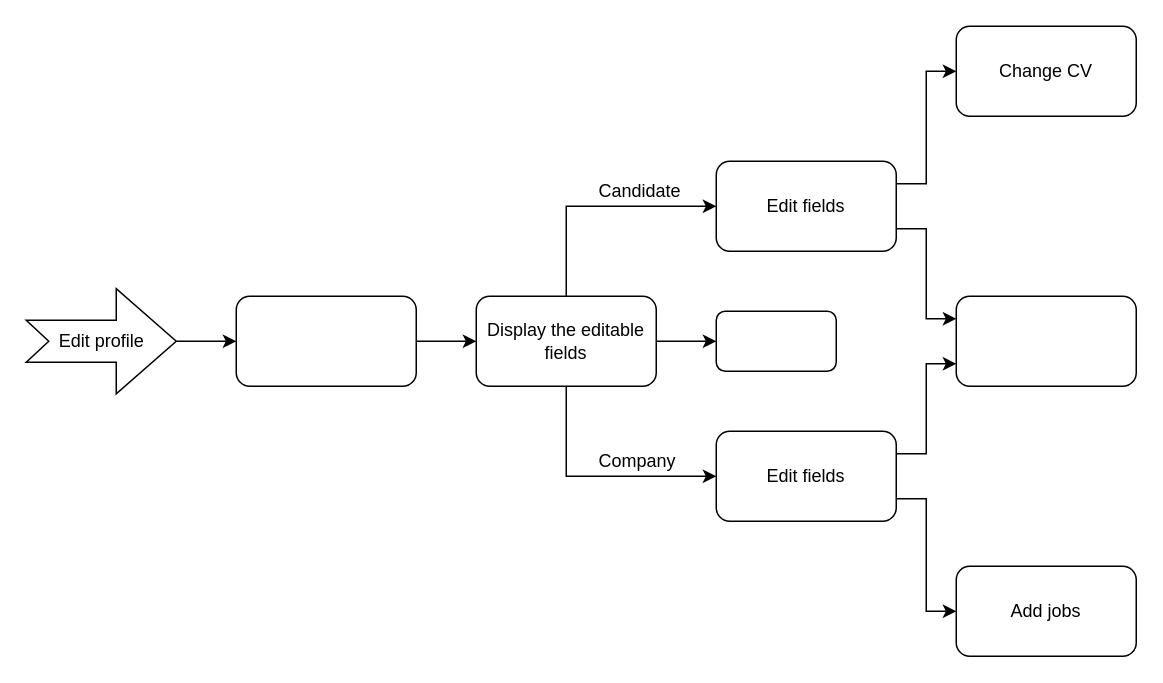
Some shapes in this 1163 by 683 pixel diagram are drawn without their labels. The shapes that lost their labels are listed below. From the top down, each one's box as (x1, y1, x2, y2) in pixels, then its label:
(235, 295, 416, 386): Select user profile data from the database
(715, 310, 836, 371): Logout
(955, 295, 1136, 386): Update database
